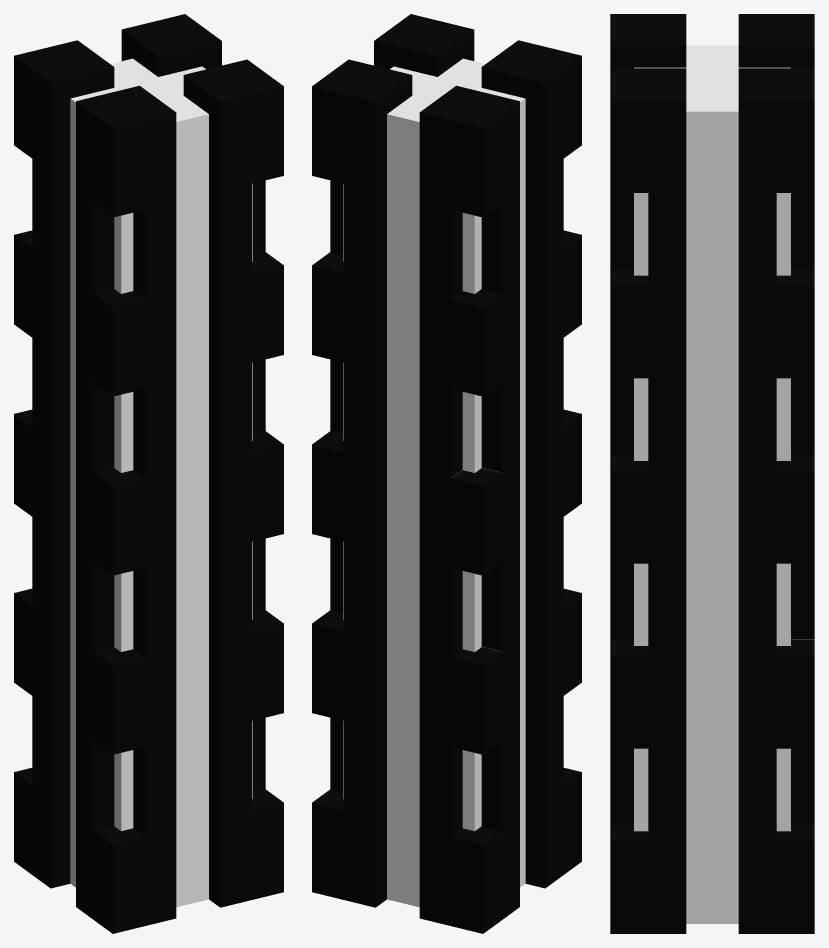
Rendered from Building 3.fbx.
3 views of the same model, side by side, from view 1: azimuth 30°, elevation 25°; view 2: azimuth 150°, elevation 25°; view 3: azimuth 270°, elevation 25° (orthographic). The views are drawn at different scales.
Visible parts, largest first — view 1: Cube; view 2: Cube; view 3: Cube.
Part boxes in pixels (box(x1,y1,x2,y2)): Cube: box(14, 14, 283, 933); Cube: box(312, 14, 581, 933); Cube: box(610, 14, 814, 933).
Size of the model in its own units: 260 by 1170 by 260.
